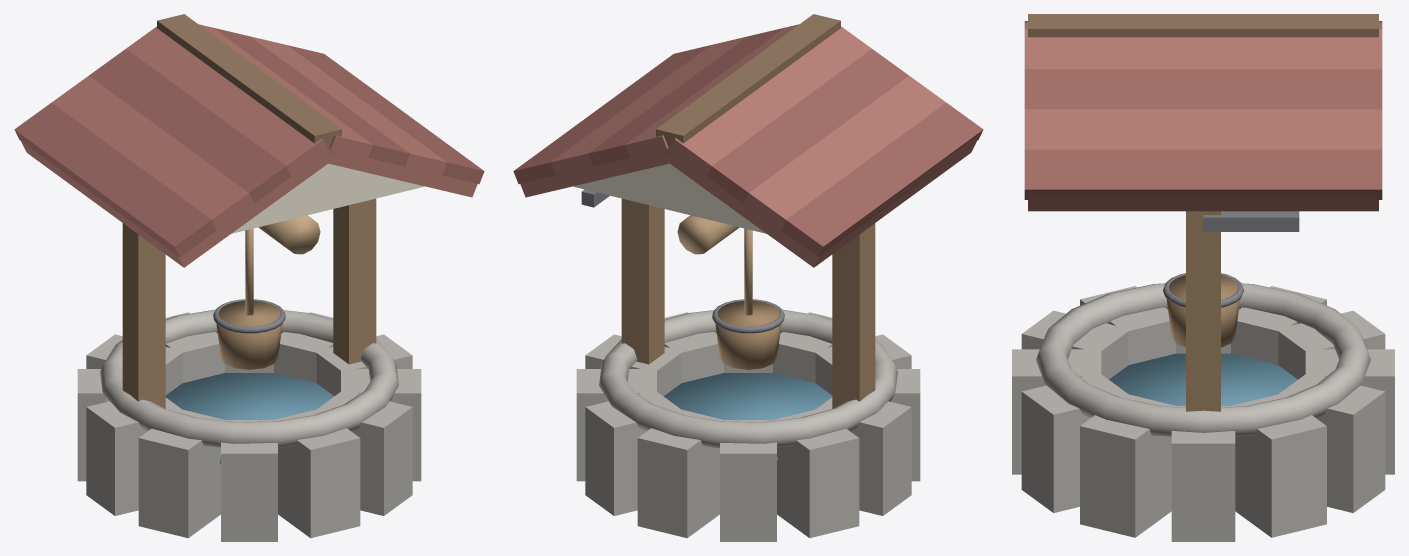
File: well.fbx
3 renders of one model, left to right at view 1: azimuth 30°, elevation 25°; view 2: azimuth 150°, elevation 25°; view 3: azimuth 270°, elevation 25°, orthographic. The views are drawn at different scales.
Visible parts, largest first — view 1: Well; view 2: Well; view 3: Well.
Boxes of the visible parts, x1,y1,x2,y2 form: Well: [14, 14, 484, 541]; Well: [513, 14, 983, 541]; Well: [1012, 14, 1394, 541].
Bounding box in the file's own units: 2.5 × 3.04 × 2.4.
